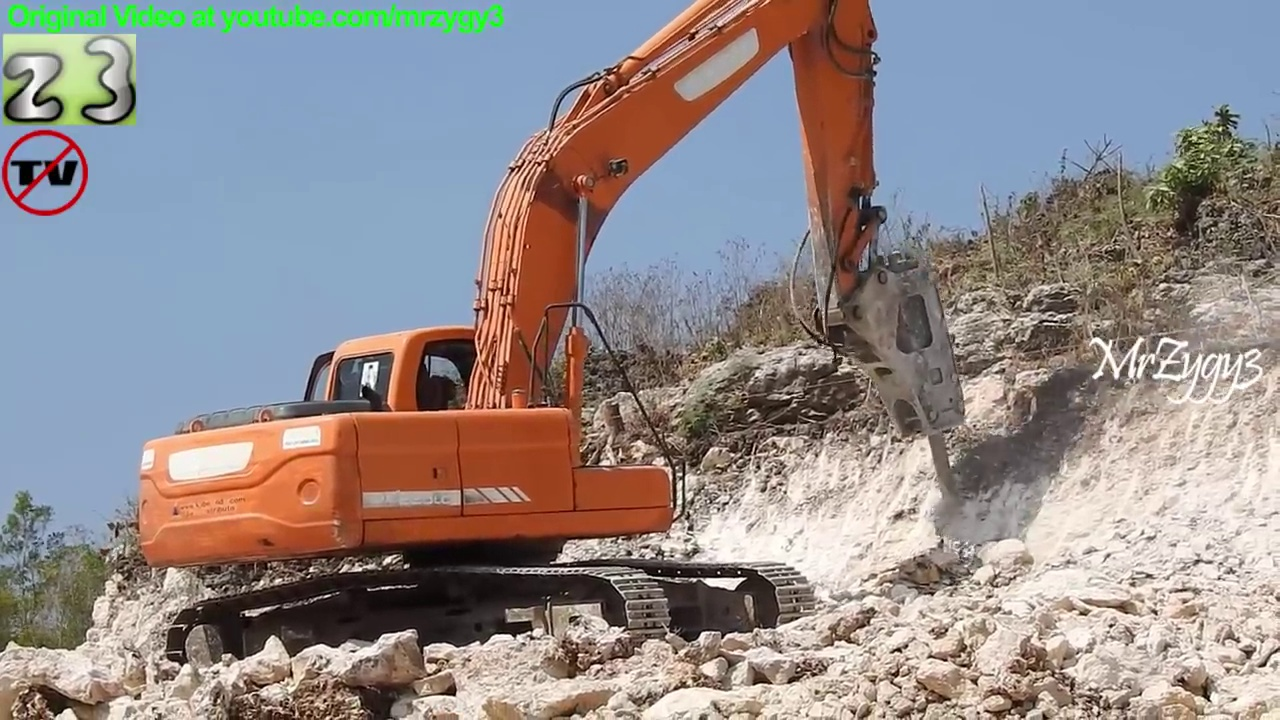excavator breaker: (129, 1, 972, 681)
